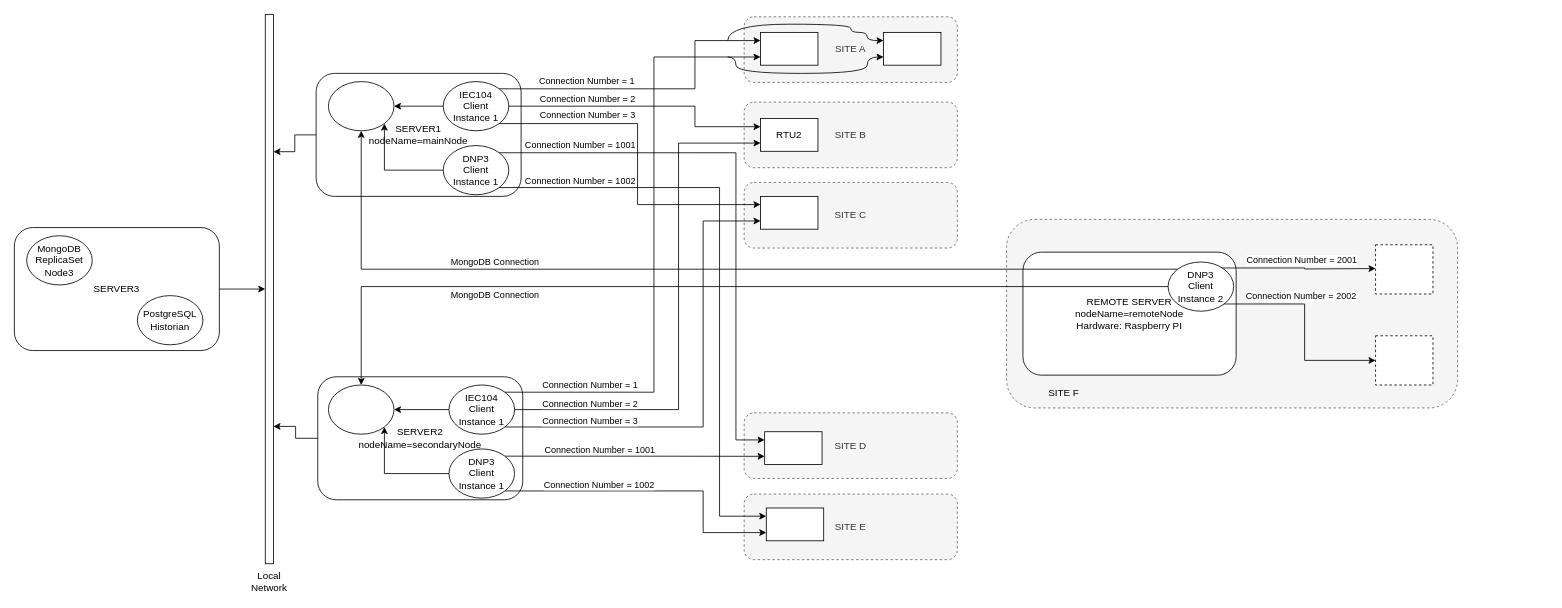
The diagram is 1562 pixels wide and 608 high, and some of its shapes have lost their labels. Here are the shapes that lost their labels. From the top down, the centre of each, then its label:
At (789,48): "RTU1".
At (912,48): "RTU1-backup".
At (361,106): "MongoDB ReplicaSet Node1".
At (789,212): "RTU3".
At (1404,269): "RTU 6".
At (1404,360): "RTU 7".
At (361,409): "MongoDB ReplicaSet Node2".
At (793,448): "RTU4".
At (794,524): "RTU5".
